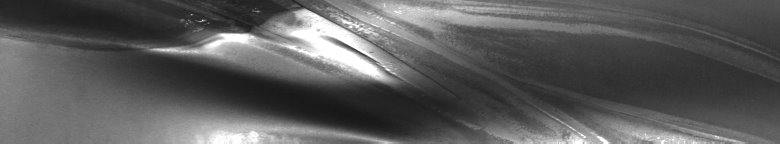ke: (4, 4, 761, 136)
